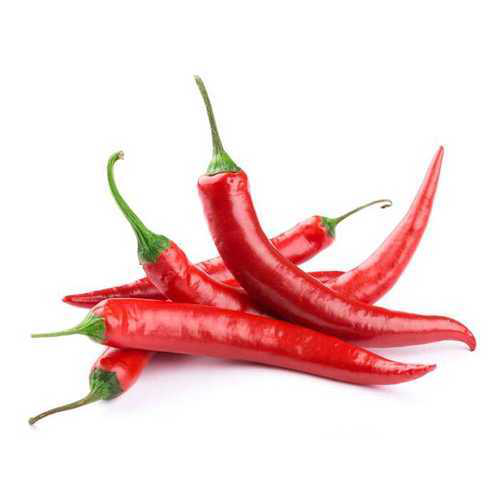Cabai: (37, 51, 465, 448)
